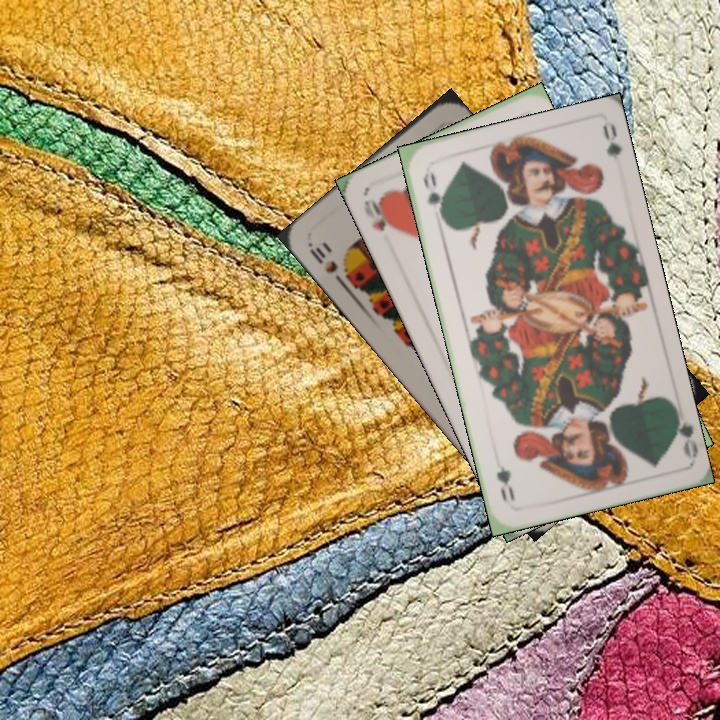GO: (668, 403, 699, 461), (418, 167, 447, 223)
HO: (360, 194, 397, 234)
S10: (305, 239, 348, 289)
